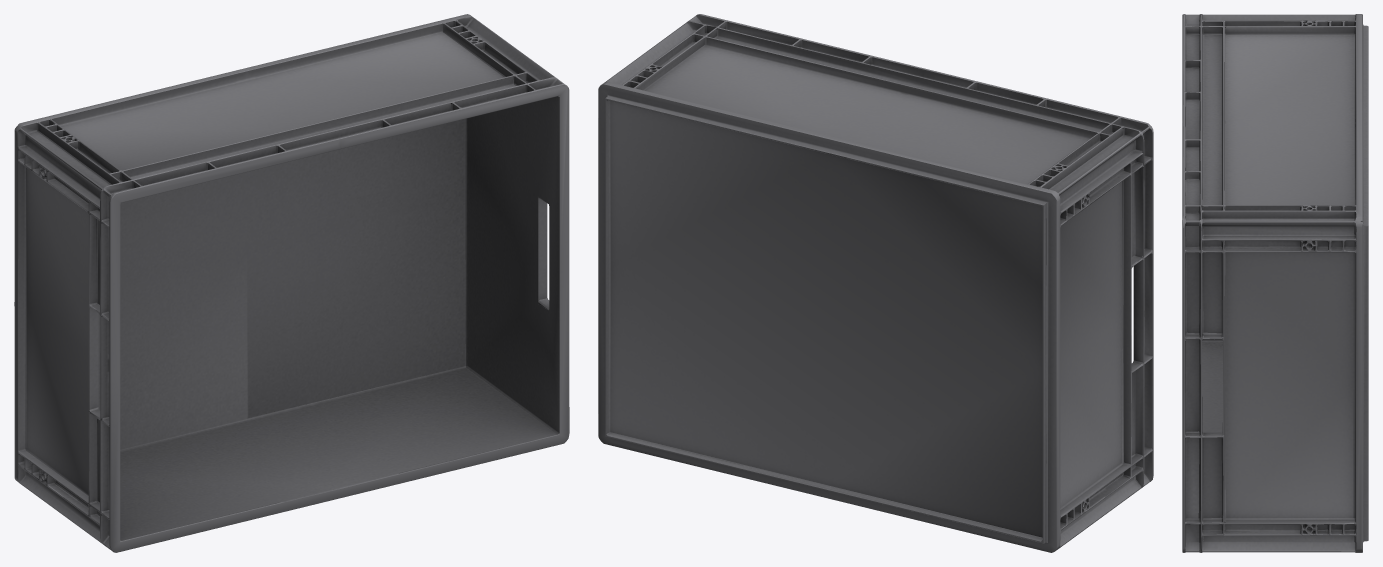
File: bin.obj
3 views of the same model, side by side, from view 1: azimuth 30°, elevation 25°; view 2: azimuth 150°, elevation 25°; view 3: azimuth 270°, elevation 25° (orthographic). The views are drawn at different scales.
Parts seen in each view (by area): view 1: Kurze_Zwischenstrebe_quer_2_Instanz.2_3; view 2: Kurze_Zwischenstrebe_quer_2_Instanz.2_3; view 3: Kurze_Zwischenstrebe_quer_2_Instanz.2_3.
Boxes of the visible parts, x1=… form: Kurze_Zwischenstrebe_quer_2_Instanz.2_3: x1=14, y1=14, x2=569, y2=552; Kurze_Zwischenstrebe_quer_2_Instanz.2_3: x1=598, y1=14, x2=1153, y2=552; Kurze_Zwischenstrebe_quer_2_Instanz.2_3: x1=1182, y1=14, x2=1368, y2=552.
Bounding box in the file's own units: 0.5581 × 0.4181 × 0.21.
Materials: 1 (1 with a texture image).
